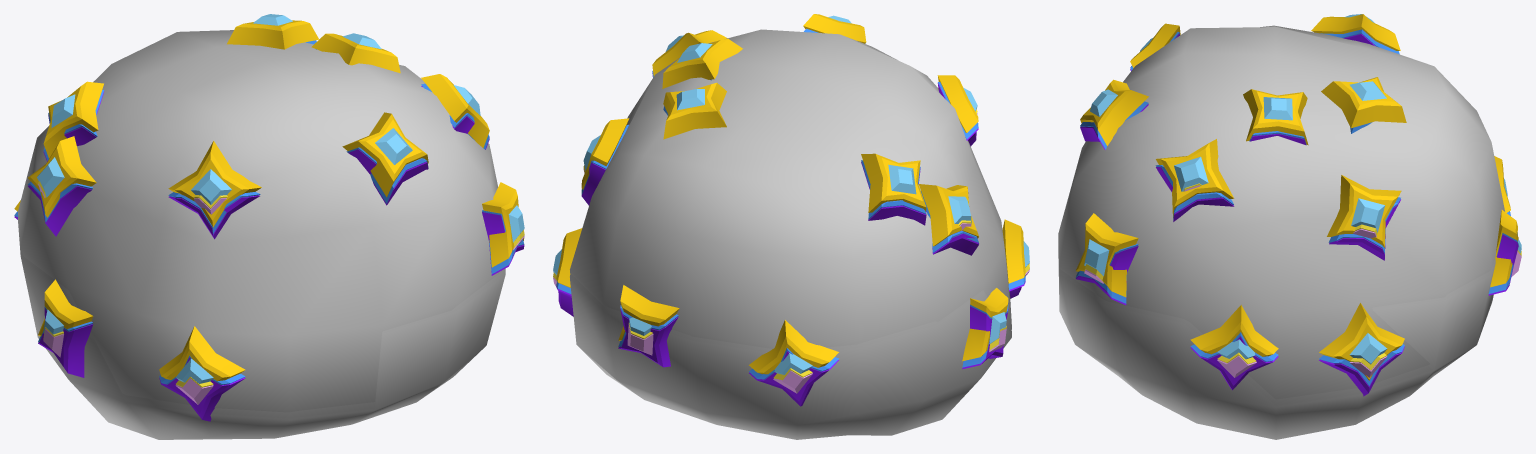
The model's file is FlowerBushes.fbx.
The picture shows the model from 3 angles, left to right: view 1: azimuth 30°, elevation 25°; view 2: azimuth 150°, elevation 25°; view 3: azimuth 270°, elevation 25°; orthographic projection. The views are drawn at different scales.
Visible parts, largest first — view 1: FloweBushrYellow, FloweBushViolet, FloweBushBlue; view 2: FloweBushrYellow, FloweBushViolet, FloweBushBlue; view 3: FloweBushrYellow, FloweBushViolet, FloweBushBlue.
Boxes of the visible parts, x1,y1,x2,y2 form: FloweBushrYellow: [14, 14, 524, 412]; FloweBushViolet: [14, 86, 524, 439]; FloweBushBlue: [14, 40, 524, 418]; FloweBushrYellow: [553, 14, 1029, 374]; FloweBushViolet: [553, 73, 1029, 439]; FloweBushBlue: [553, 28, 1029, 380]; FloweBushrYellow: [1058, 14, 1521, 399]; FloweBushViolet: [1058, 33, 1521, 439]; FloweBushBlue: [1058, 29, 1521, 405].
Size of the model in its own units: 45.01 by 33.2 by 43.42.
